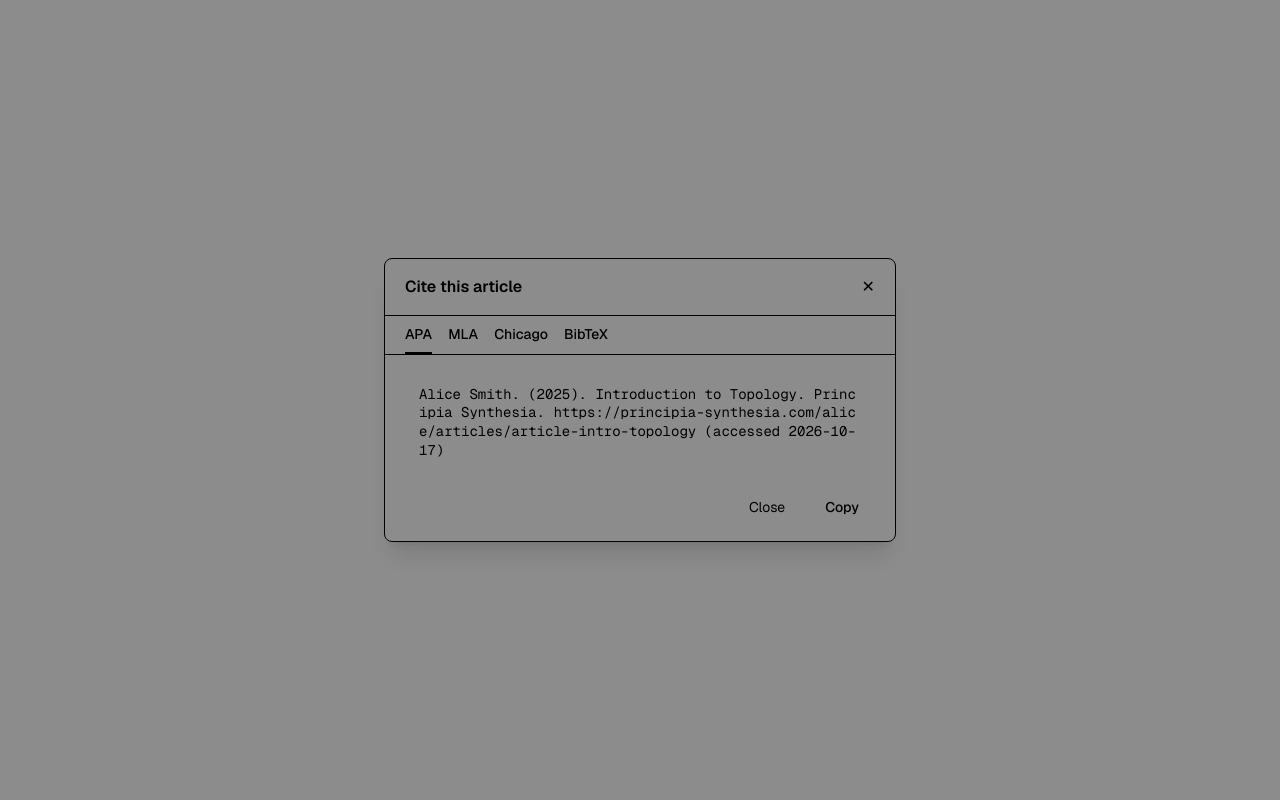
Test: CitationModal › switches to BibTeX tab when clicked
Click the button "BibTeX".
click(586, 335)  # box [564,316,608,354]
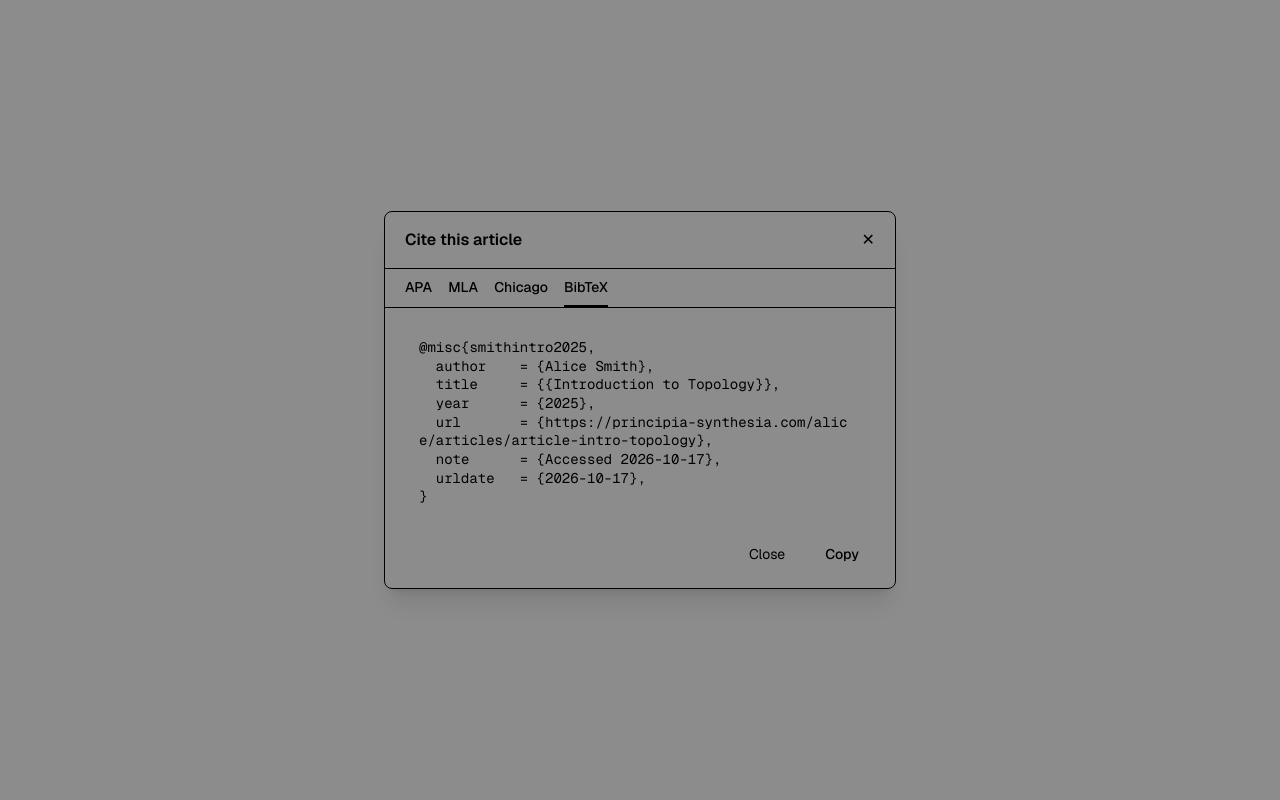
Check: the text "@misc{" is shown, box [419,338,847,505]
